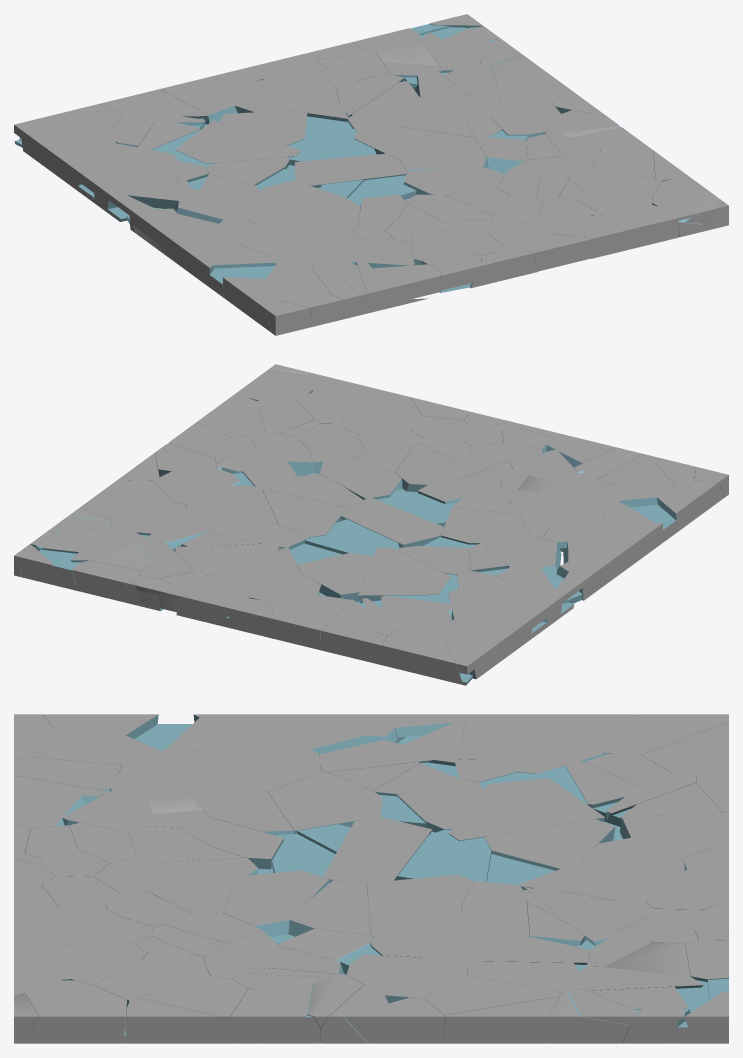
The model's file is fractureTest2.fbx.
3 views of the same model, one above another, from view 1: azimuth 30°, elevation 25°; view 2: azimuth 150°, elevation 25°; view 3: azimuth 270°, elevation 25° (orthographic). The views are drawn at different scales.
Parts seen in each view (by area): view 1: pCube1_shard_187, pCube1_shard_145, pCube1_shard_176, pCube1_shard_203, pCube1_shard_70, pCube1_shard_206, pCube1_shard_158, pCube1_shard_76, pCube1_shard_22, pCube1_shard_151, pCube1_shard_188, pCube1_shard_45 (+98 smaller); view 2: pCube1_shard_186, pCube1_shard_187, pCube1_shard_70, pCube1_shard_94, pCube1_shard_176, pCube1_shard_203, pCube1_shard_206, pCube1_shard_188, pCube1_shard_158, pCube1_shard_167, pCube1_shard_45, pCube1_shard_22 (+98 smaller); view 3: pCube1_shard_187, pCube1_shard_70, pCube1_shard_172, pCube1_shard_176, pCube1_shard_203, pCube1_shard_158, pCube1_shard_206, pCube1_shard_188, pCube1_shard_22, pCube1_shard_196, pCube1_shard_186, pCube1_shard_205 (+114 smaller).
Part boxes in pixels (<box>): pCube1_shard_187: <box>175,120,301,163</box>; pCube1_shard_145: <box>591,200,679,258</box>; pCube1_shard_176: <box>295,153,407,187</box>; pCube1_shard_203: <box>247,180,347,219</box>; pCube1_shard_70: <box>79,143,182,197</box>; pCube1_shard_206: <box>354,126,476,159</box>; pCube1_shard_158: <box>404,167,505,195</box>; pCube1_shard_76: <box>175,233,279,268</box>; pCube1_shard_22: <box>479,99,560,137</box>; pCube1_shard_151: <box>161,78,255,124</box>; pCube1_shard_188: <box>220,110,307,145</box>; pCube1_shard_45: <box>511,210,638,240</box>; pCube1_shard_186: <box>563,523,663,600</box>; pCube1_shard_187: <box>358,547,450,603</box>; pCube1_shard_70: <box>448,582,553,630</box>; pCube1_shard_94: <box>377,628,461,682</box>; pCube1_shard_176: <box>341,498,443,547</box>; pCube1_shard_203: <box>441,507,531,544</box>; pCube1_shard_206: <box>263,489,346,537</box>; pCube1_shard_188: <box>297,553,373,601</box>; pCube1_shard_158: <box>320,458,402,499</box>; pCube1_shard_167: <box>235,567,321,605</box>; pCube1_shard_45: <box>365,386,432,432</box>; pCube1_shard_22: <box>153,468,240,504</box>; pCube1_shard_187: <box>448,778,605,840</box>; pCube1_shard_70: <box>481,714,604,774</box>; pCube1_shard_172: <box>19,980,126,1043</box>; pCube1_shard_176: <box>323,817,432,883</box>; pCube1_shard_203: <box>268,771,382,833</box>; pCube1_shard_158: <box>223,870,329,937</box>; pCube1_shard_206: <box>366,875,473,936</box>; pCube1_shard_188: <box>484,819,615,870</box>; pCube1_shard_22: <box>346,954,468,1003</box>; pCube1_shard_196: <box>125,997,232,1043</box>; pCube1_shard_186: <box>193,714,411,756</box>; pCube1_shard_205: <box>442,996,559,1043</box>.
Size of the model in its own units: 24 by 1 by 24.
